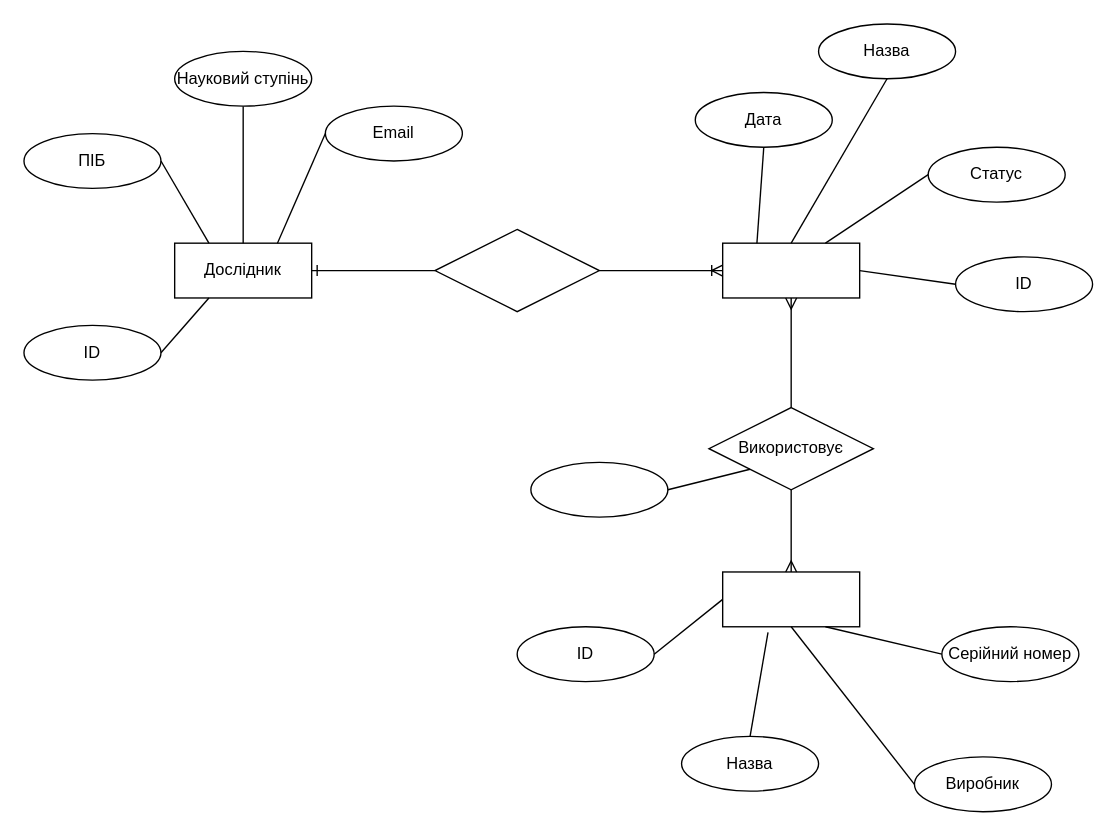
Some shapes in this 1117 by 836 pixel diagram are drawn without their labels. The centre of each missing label's shape, as x and y in pixels:
Експеримент: the point at 790,270
Керує: the point at 516,270
Обладнання: the point at 790,599
Тривалість використання: the point at 599,489
